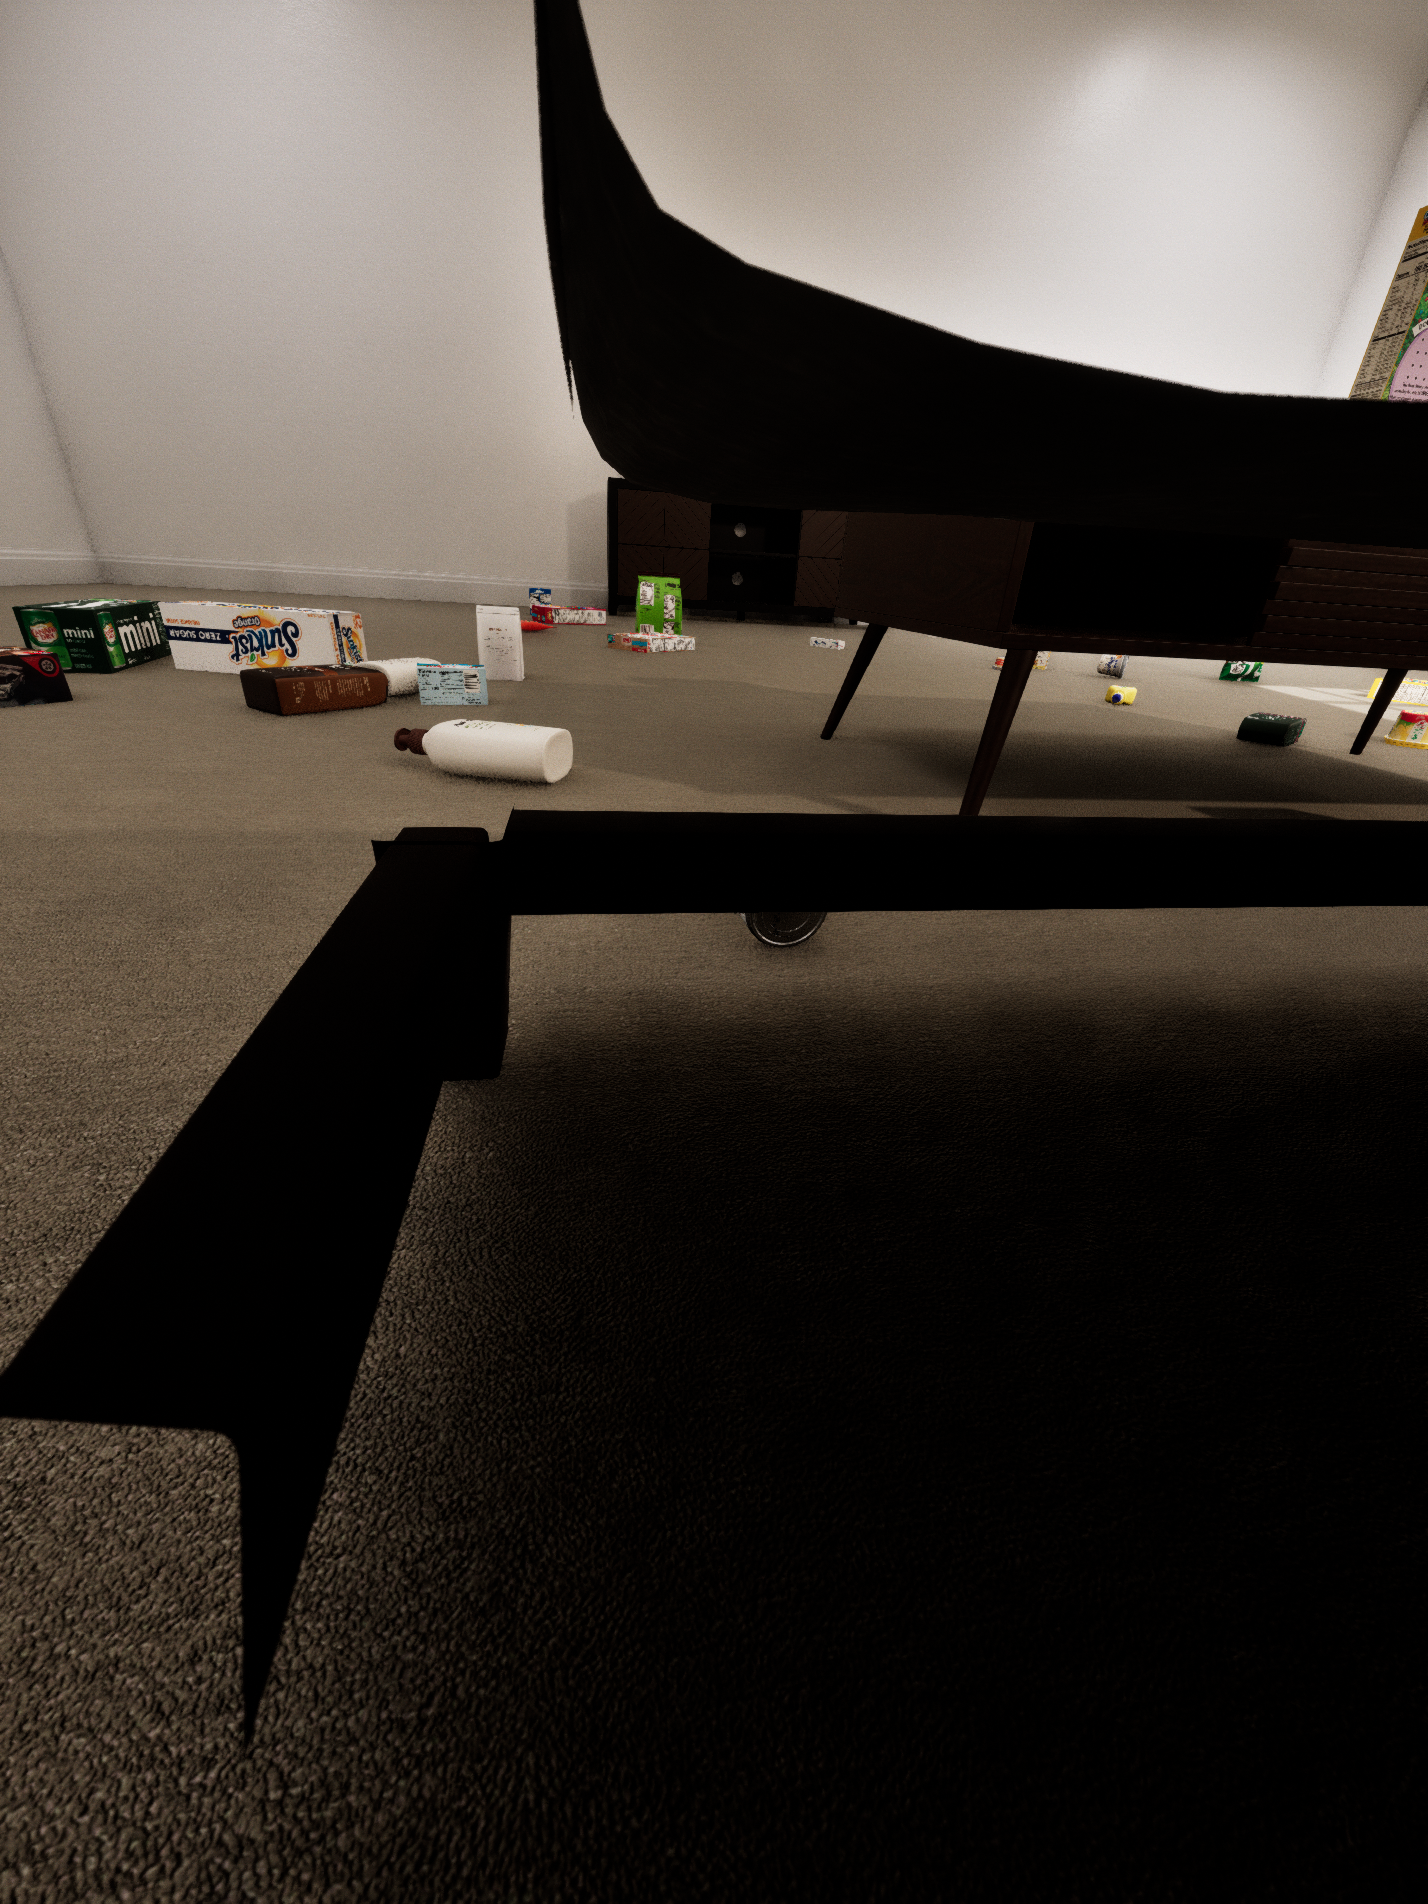soup: (738, 912, 826, 948)
